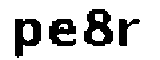8: (82, 5, 114, 48)
e: (47, 17, 78, 49)
p: (11, 14, 42, 60)
r: (116, 15, 142, 49)
